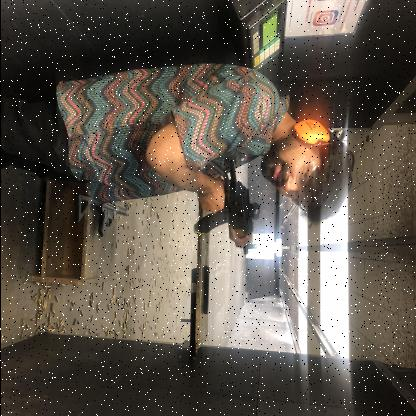rifle: (191, 149, 261, 255), (72, 193, 130, 238)
